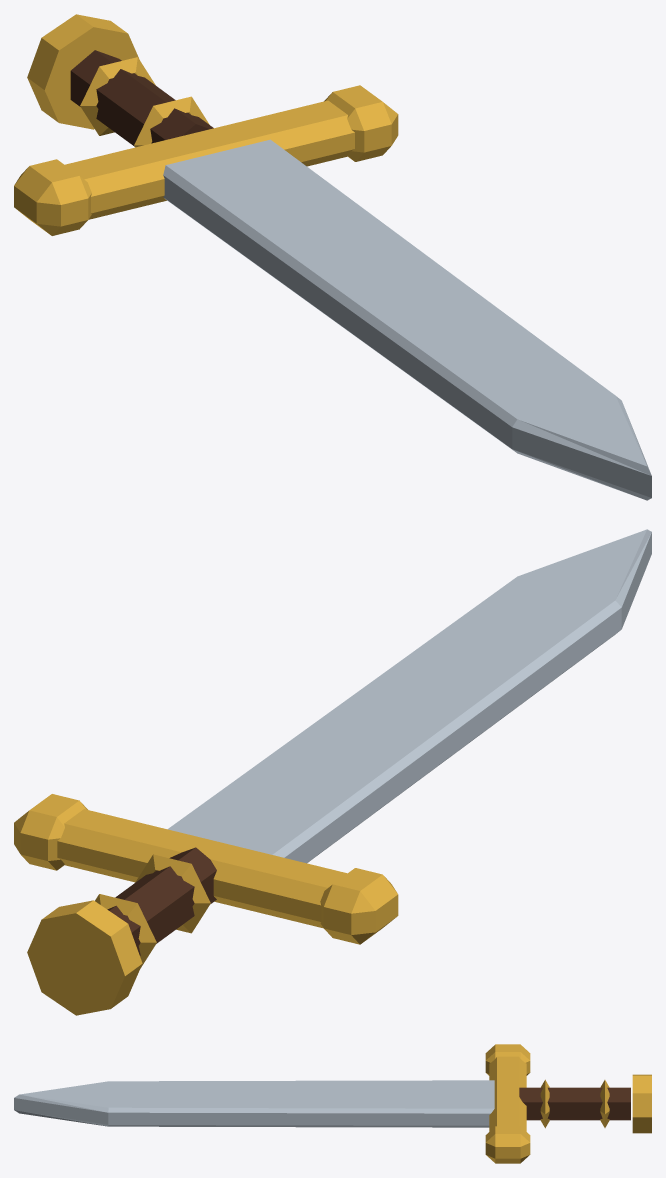
Rendered from Item_IronSword.glb.
3 views of the same model, one above another, from view 1: azimuth 30°, elevation 25°; view 2: azimuth 150°, elevation 25°; view 3: azimuth 270°, elevation 25° (orthographic). The views are drawn at different scales.
Visible parts, largest first — view 1: Item_IronSword; view 2: Item_IronSword; view 3: Item_IronSword.
Boxes of the visible parts, <box> form: Item_IronSword: <box>14,14,651,500</box>; Item_IronSword: <box>14,529,651,1015</box>; Item_IronSword: <box>14,1044,651,1163</box>.
Bounding box in the file's own units: 0.31 × 0.084 × 0.8551.
